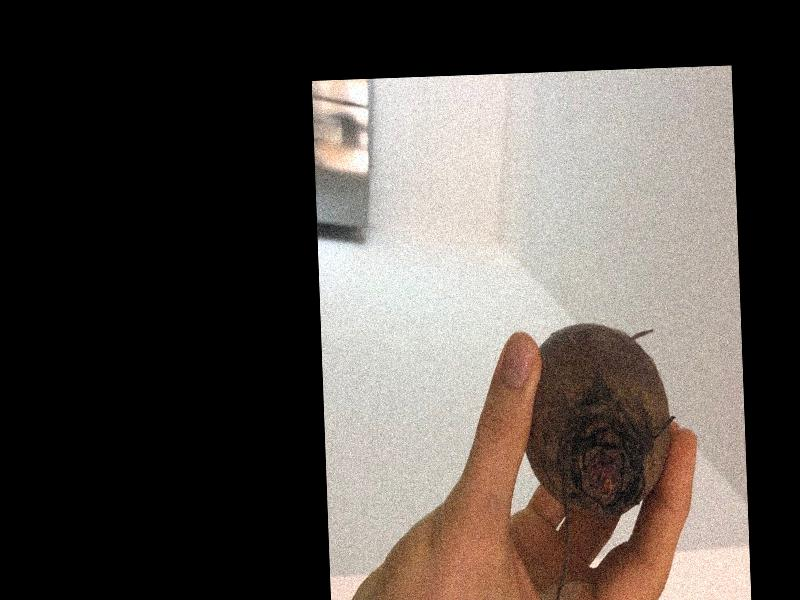Beet: (518, 318, 683, 600)
